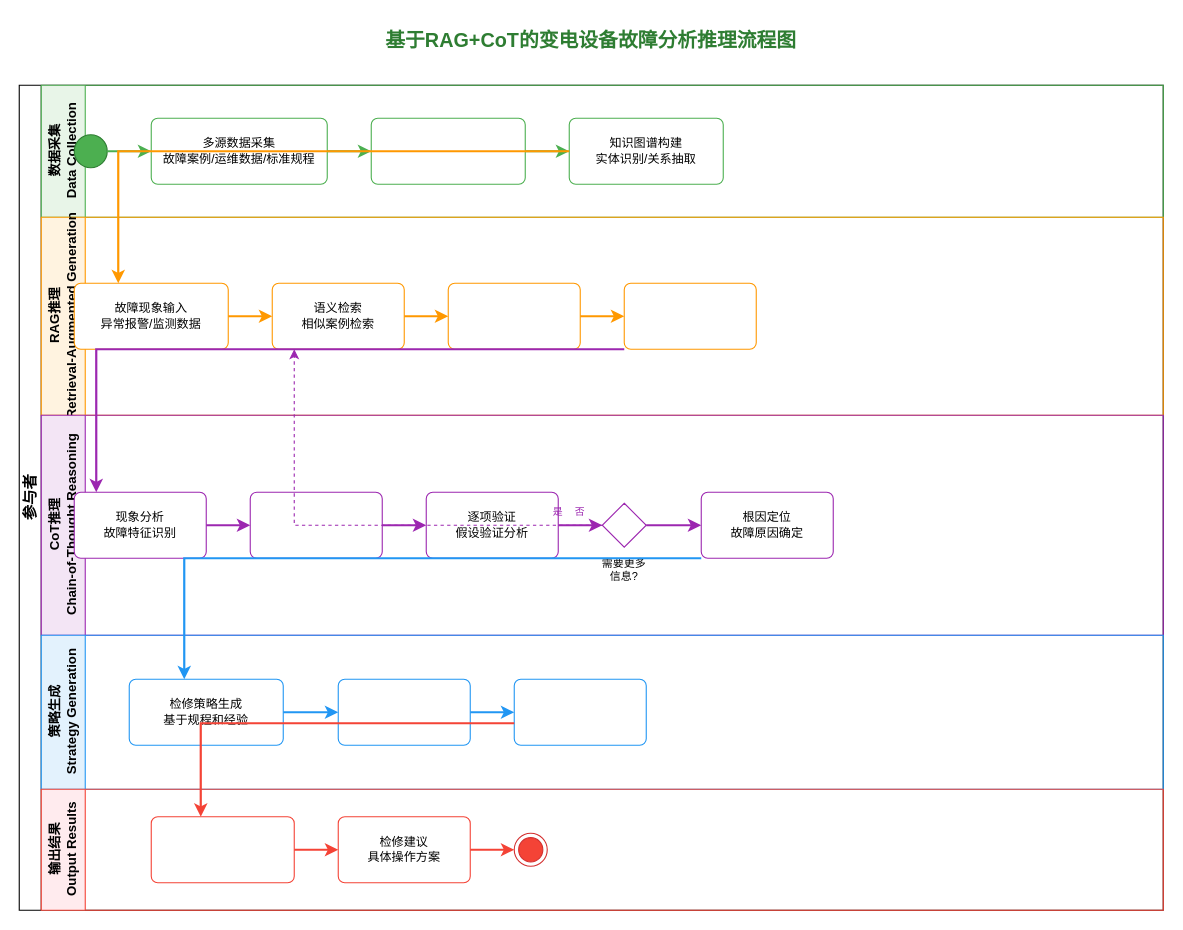
This 1183x930 diagram has some shape labels left out. Here are the shapes that lost their labels. From the top down, the centre of each, then its label:
At pixel 447 150: "数据预处理 清洗/标准化/向量化".
At pixel 513 315: "知识融合 多源信息整合".
At pixel 689 315: "上下文构建 推理背景准备".
At pixel 315 524: "假设生成 可能原因推测".
At pixel 403 711: "风险评估 影响范围分析".
At pixel 579 711: "决策支持 推荐方案输出".
At pixel 222 849: "故障分析报告 详细推理过程".
